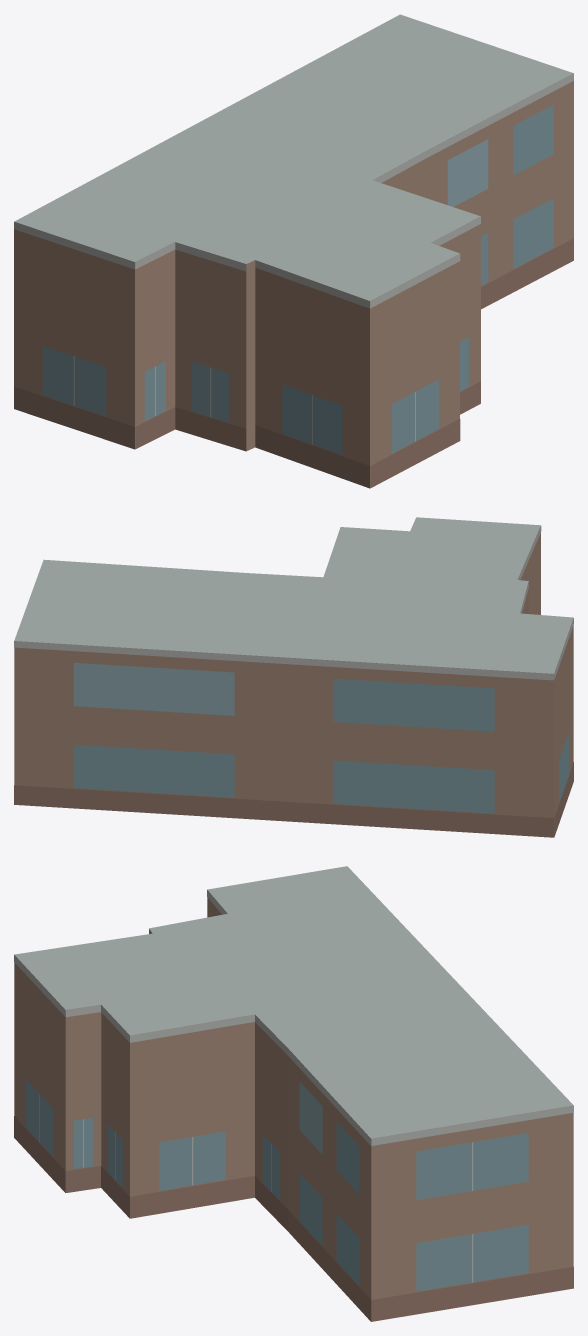
The model's file is survey-upis-32508382.glb.
3 views of the same model, one above another, from view 1: azimuth 30°, elevation 25°; view 2: azimuth 150°, elevation 25°; view 3: azimuth 270°, elevation 25° (orthographic). The views are drawn at different scales.
Visible parts, largest first — view 1: survey-upis-32508382.tmp; view 2: survey-upis-32508382.tmp; view 3: survey-upis-32508382.tmp.
Boxes of the visible parts, x1=… form: survey-upis-32508382.tmp: x1=14, y1=14, x2=573, y2=488; survey-upis-32508382.tmp: x1=14, y1=517, x2=573, y2=837; survey-upis-32508382.tmp: x1=14, y1=866, x2=573, y2=1321.
Size of the model in its own units: 19.5 by 6.1 by 16.91.
